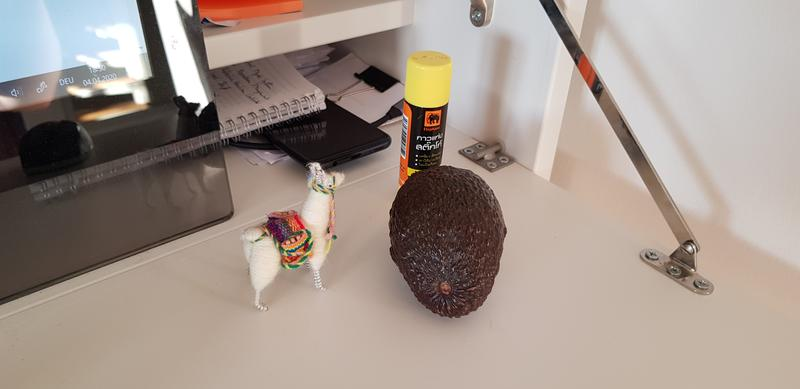Avocado: (388, 166, 509, 324)
Glue-Stick: (396, 49, 456, 172)
Horse-Toy: (239, 162, 353, 315)
